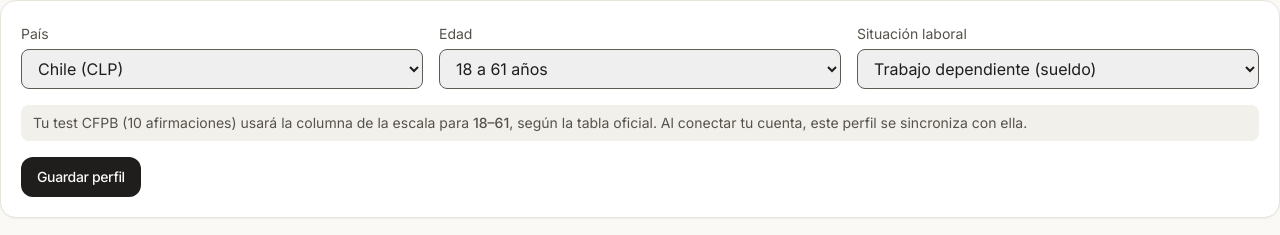
Test: PerfilForm (guardar perfil con sesión simulada) › envía el país y el tramo de edad elegidos
Select "Perú (PEN)" in the dropdown labelled "País": [222, 69] box [21,49,423,89]
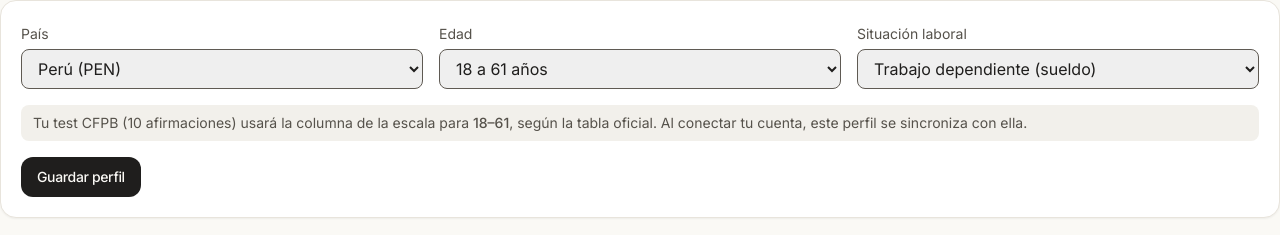
Select "62 años o más" in the dropdown labelled "Edad": [640, 69] box [439,49,841,89]
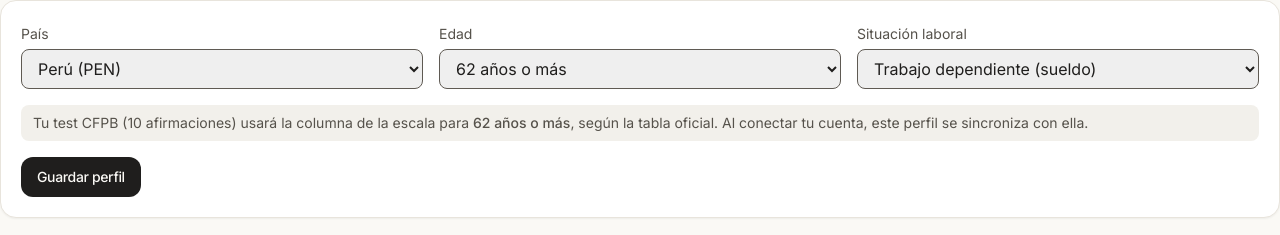
Click the button "Guardar perfil": [81, 177] box [21,157,141,197]
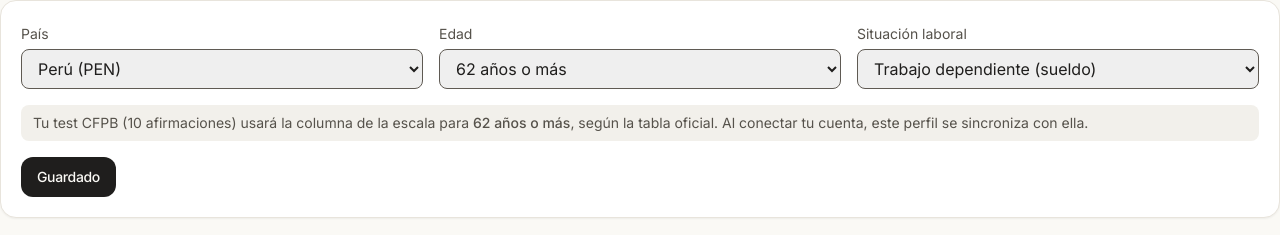
Check: the button "Guardado" is shown, box [21,157,116,197]
